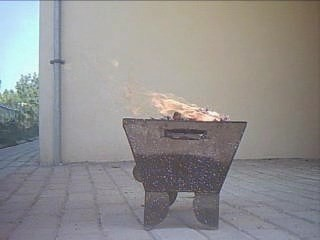fire: (121, 80, 233, 123)
